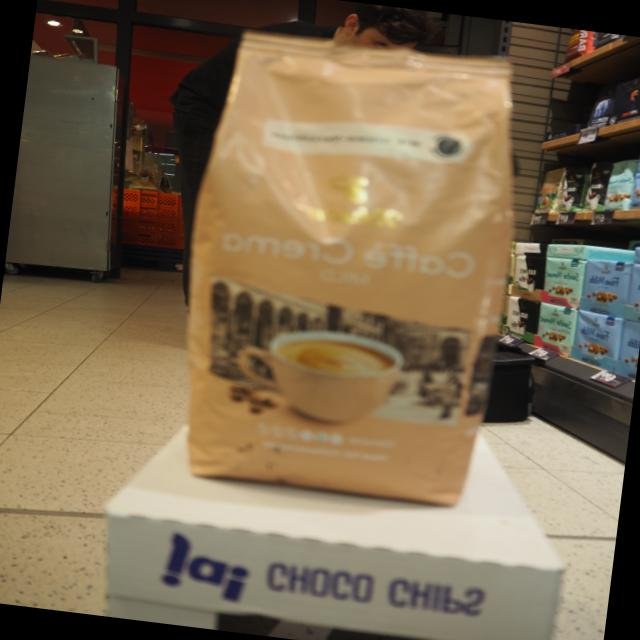CC Mild: (160, 23, 532, 509)
